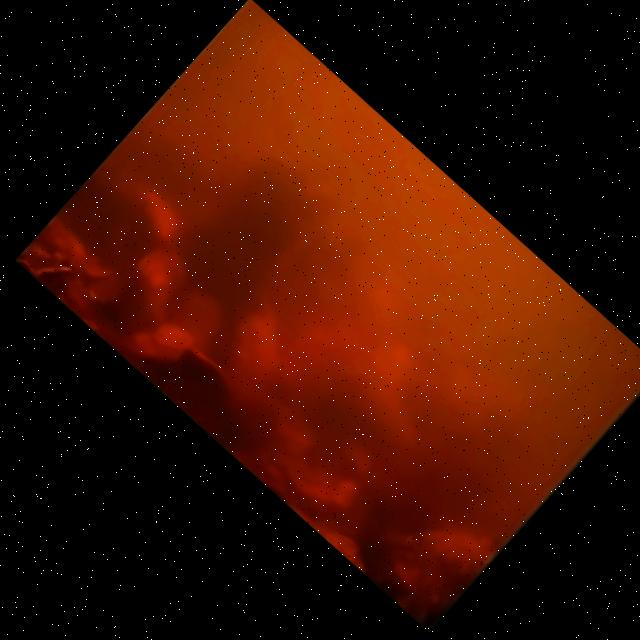Oyster-Closed: (115, 249, 185, 328), (274, 457, 358, 522), (131, 324, 193, 360)
Oyster-Indeterminate: (175, 350, 229, 405), (18, 244, 74, 295)
